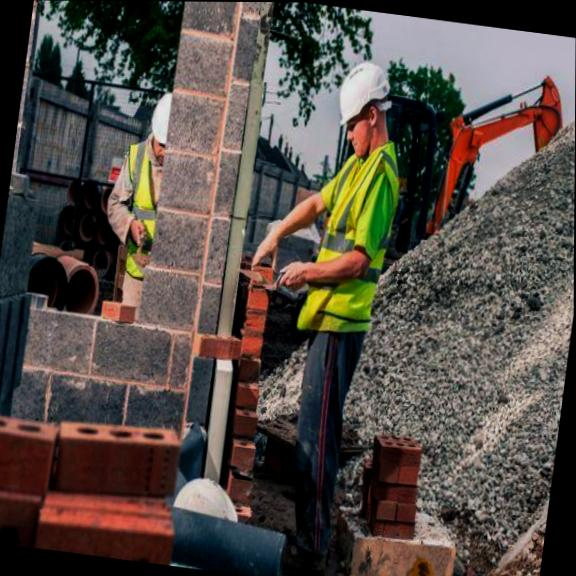safety_vest: (310, 141, 398, 354)
